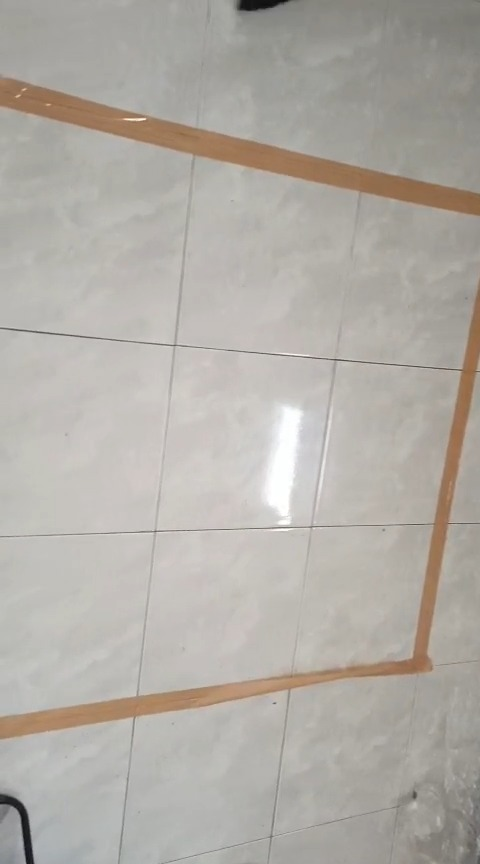floor marking: (0, 282, 479, 738), (1, 80, 479, 214)
